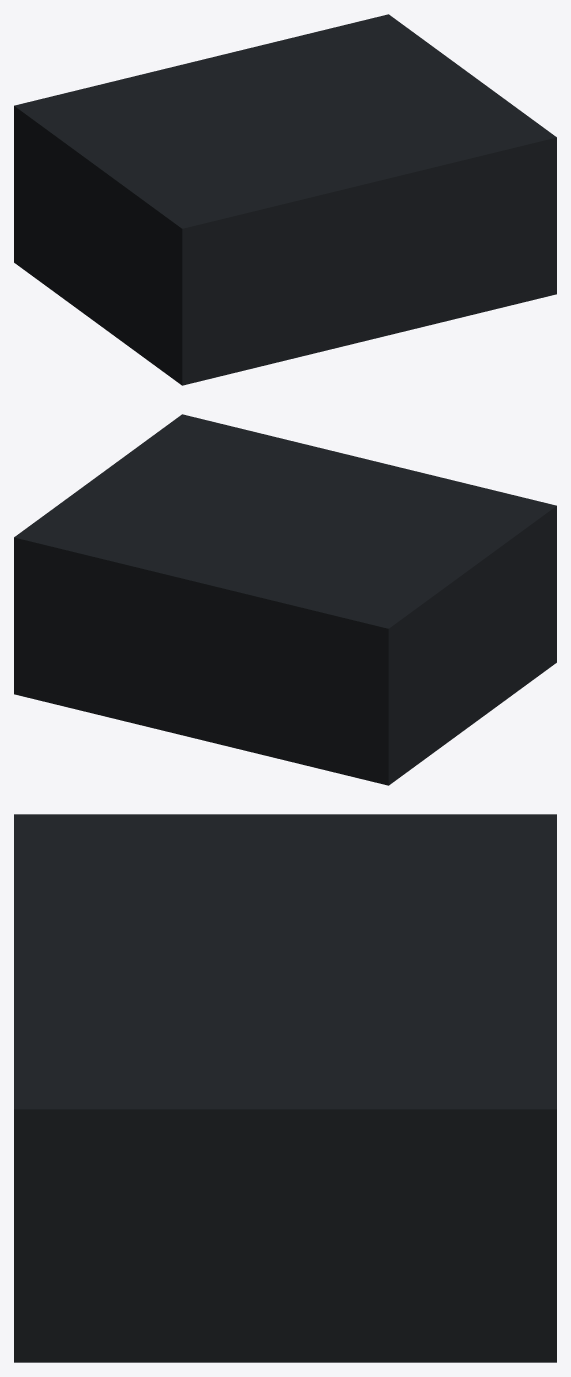
Rendered from inf_warden_hand_l.fbx.
The picture shows the model from 3 angles, top to bottom: view 1: azimuth 30°, elevation 25°; view 2: azimuth 150°, elevation 25°; view 3: azimuth 270°, elevation 25°; orthographic projection. The views are drawn at different scales.
Visible parts, largest first — view 1: inf_warden_hand_l; view 2: inf_warden_hand_l; view 3: inf_warden_hand_l.
Part boxes in pixels (<box>): inf_warden_hand_l: <box>14,14,556,385</box>; inf_warden_hand_l: <box>14,414,556,785</box>; inf_warden_hand_l: <box>14,814,556,1362</box>.
Bounding box in the file's own units: 90 × 36 × 70.
